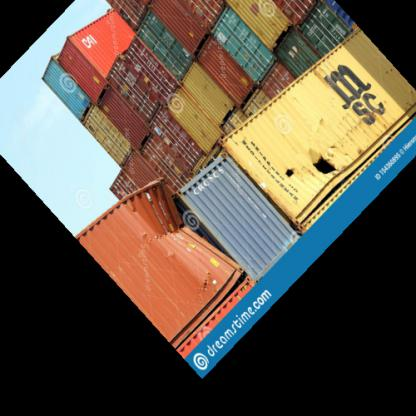Damage: (152, 168, 217, 254), (280, 138, 344, 189)
